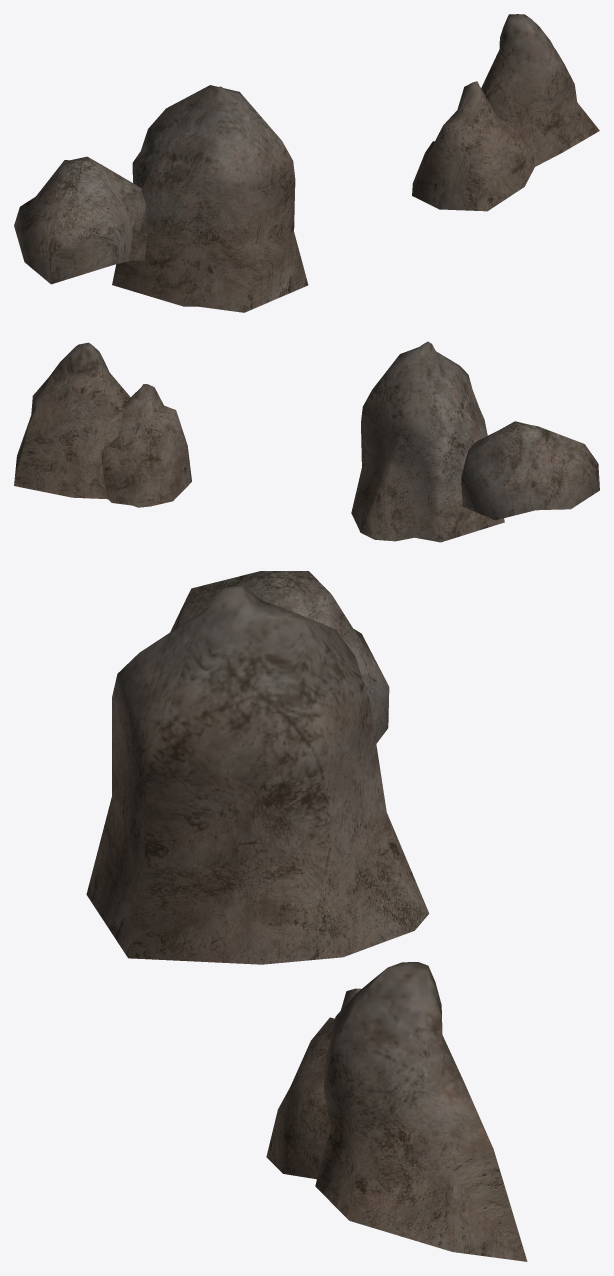
The model's file is BgMD_rock_tutorial02_01.fbx.
The picture shows the model from 3 angles, top to bottom: view 1: azimuth 30°, elevation 25°; view 2: azimuth 150°, elevation 25°; view 3: azimuth 270°, elevation 25°; orthographic projection. The views are drawn at different scales.
Visible parts, largest first — view 1: rock_tutorial02_02_2, rock_tutorial02_02_1, rock_tutorial02_02_3, rock_tutorial02_02_4; view 2: rock_tutorial02_02_2, rock_tutorial02_02_4, rock_tutorial02_02_1, rock_tutorial02_02_3; view 3: rock_tutorial02_02_2, rock_tutorial02_02_4, rock_tutorial02_02_1, rock_tutorial02_02_3.
Boxes of the visible parts, left/top/right/bottom form: rock_tutorial02_02_2: left=112, top=85, right=308, bottom=312; rock_tutorial02_02_1: left=14, top=156, right=148, bottom=284; rock_tutorial02_02_3: left=412, top=81, right=534, bottom=211; rock_tutorial02_02_4: left=481, top=14, right=599, bottom=166; rock_tutorial02_02_2: left=351, top=341, right=504, bottom=542; rock_tutorial02_02_4: left=14, top=342, right=130, bottom=499; rock_tutorial02_02_1: left=461, top=421, right=599, bottom=520; rock_tutorial02_02_3: left=101, top=384, right=191, bottom=507; rock_tutorial02_02_2: left=86, top=585, right=429, bottom=964; rock_tutorial02_02_4: left=315, top=962, right=527, bottom=1261; rock_tutorial02_02_1: left=170, top=571, right=389, bottom=743; rock_tutorial02_02_3: left=266, top=988, right=361, bottom=1179.
Size of the model in its own units: 9117 by 2974 by 3388.
